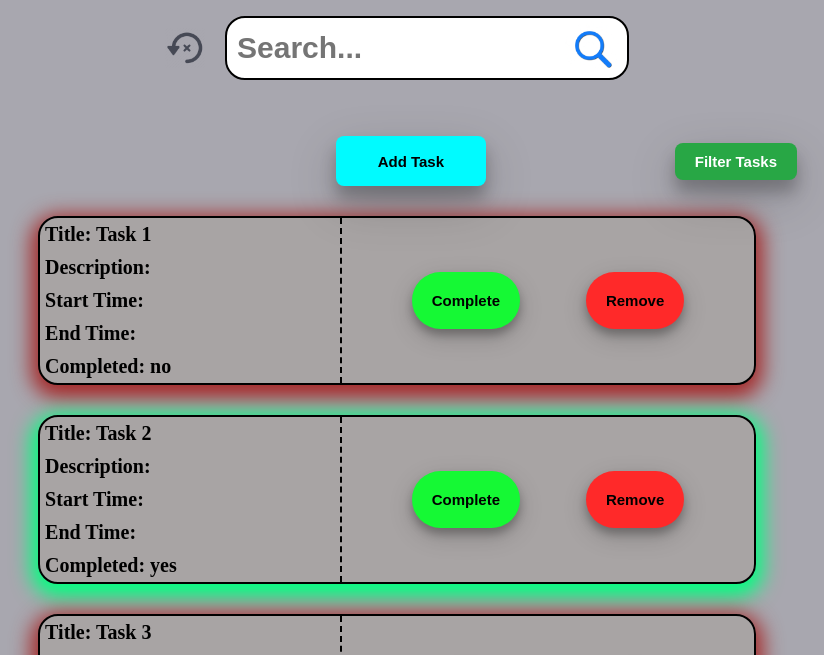
Scenario: filters tasks based on search input
Expected: the text "Title: Task 1" is shown, [45,223,152,245]
Expected: the text "Title: Task 2" is shown, [45,422,152,444]
Type "Task 1" into the field at [397, 48], box [237,18,557,78]
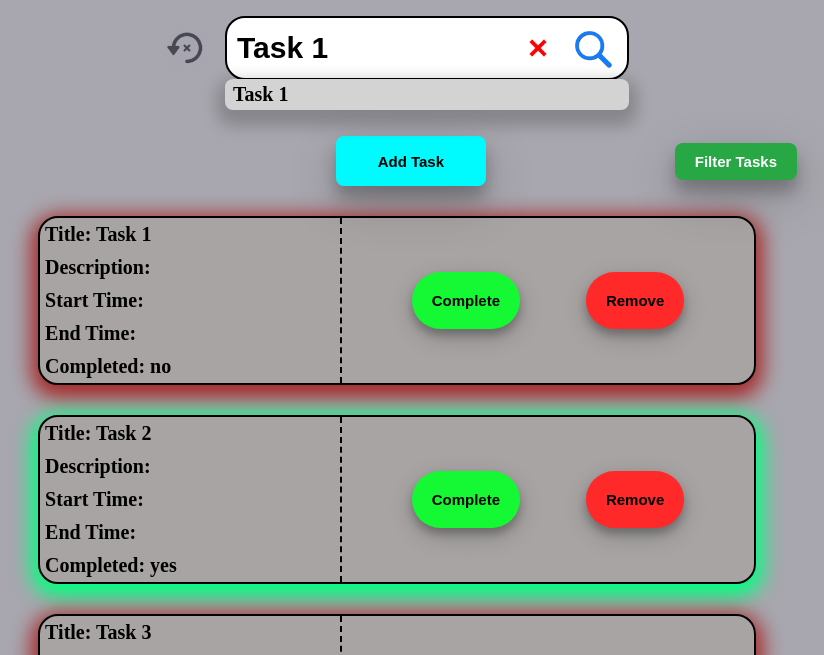
Click the picture named "Search Icon" at [592, 48], box [565,21,619,75]
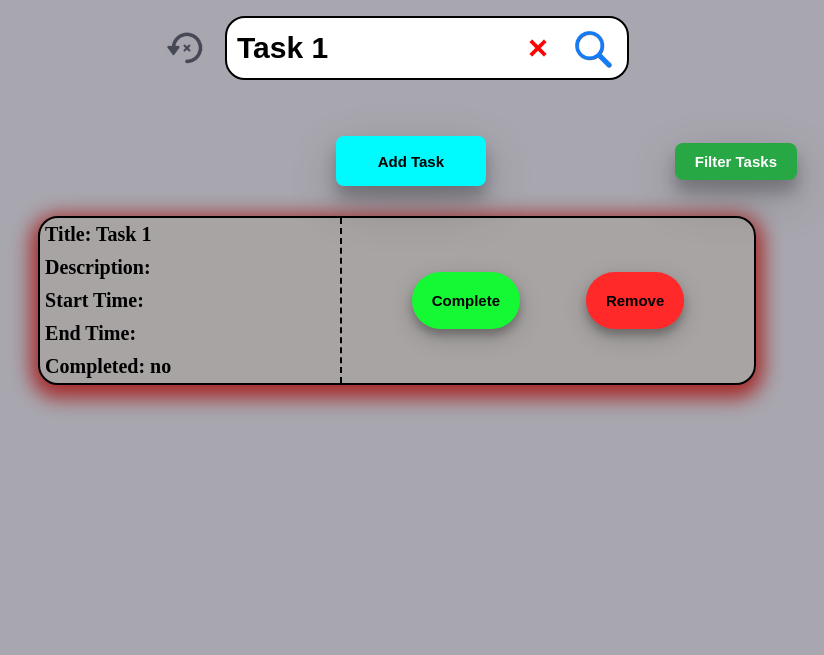
Now the text "Task 2" is gone
Now the text "Task 3" is gone
